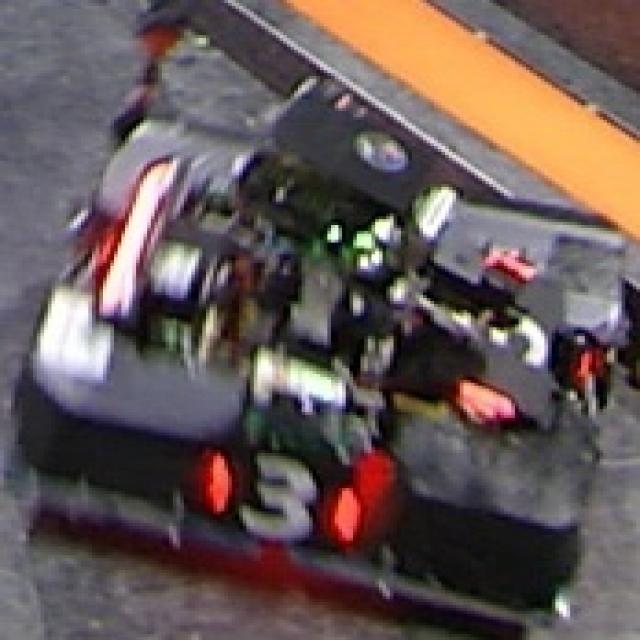R3: (206, 444, 364, 547)
